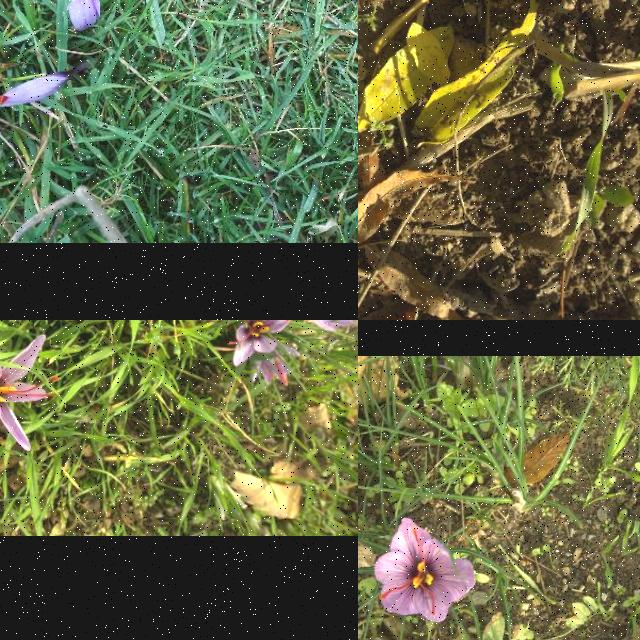flower: (374, 518, 476, 622), (0, 334, 57, 450), (227, 320, 296, 367), (0, 70, 72, 107), (66, 0, 102, 33)
overlap: (249, 320, 358, 386)
